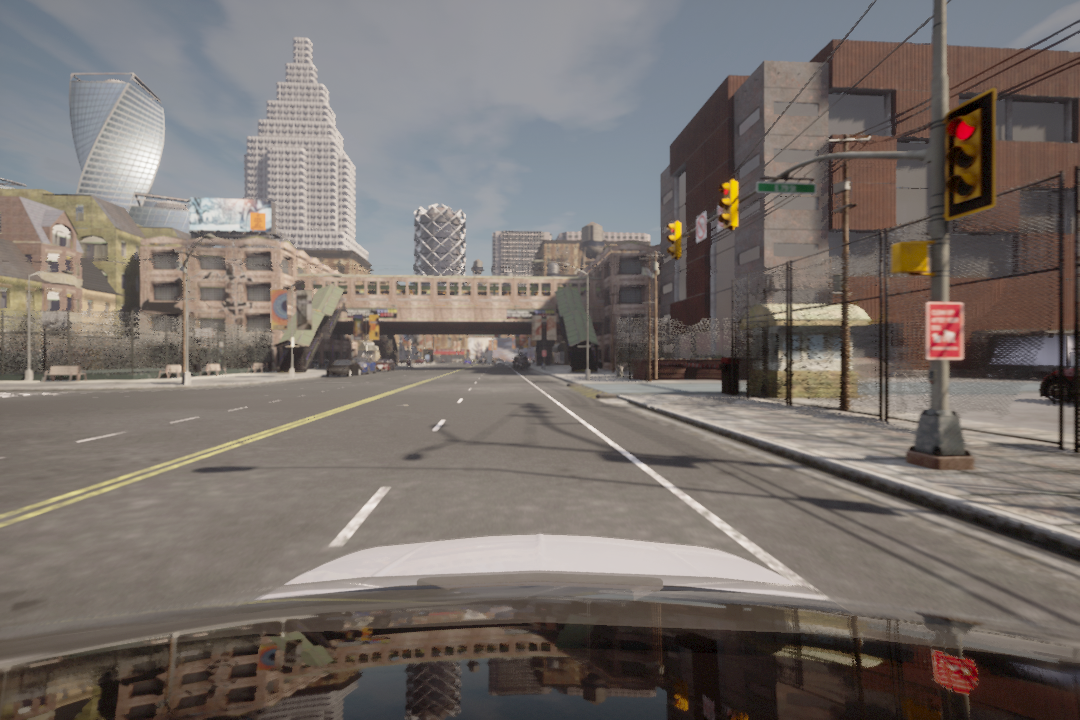TrafficLight: (945, 108, 987, 206), (718, 177, 737, 227), (666, 219, 681, 255)
TrafficSign: (693, 213, 708, 241)
